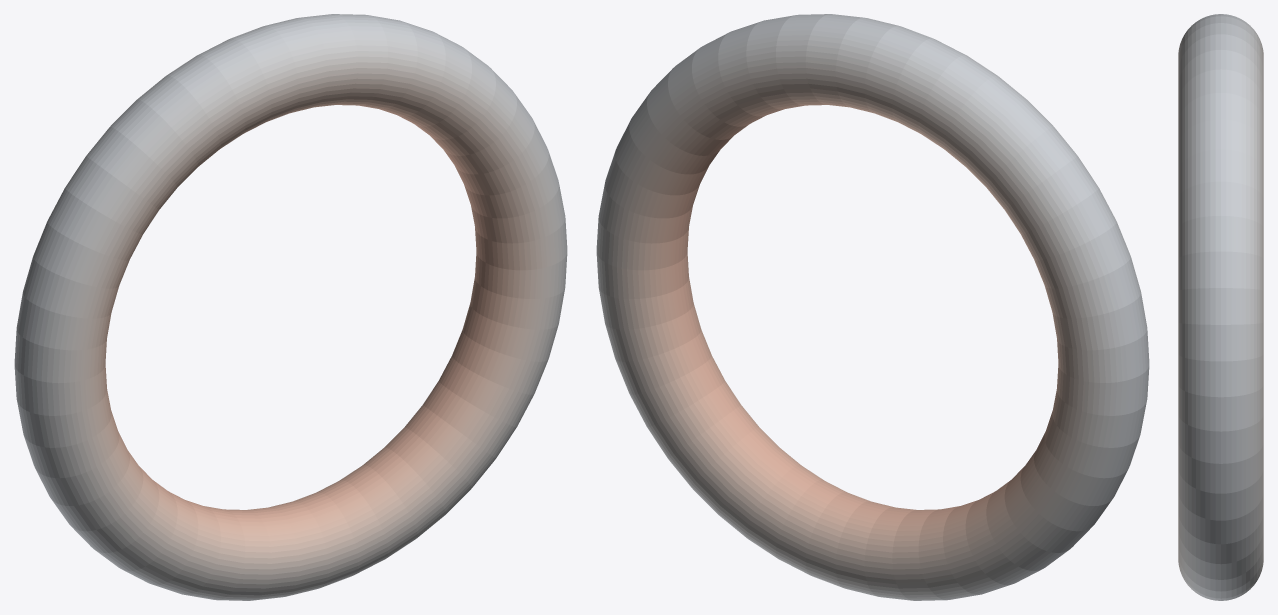
3 views of the same model, side by side, from view 1: azimuth 30°, elevation 25°; view 2: azimuth 150°, elevation 25°; view 3: azimuth 270°, elevation 25° (orthographic). The views are drawn at different scales.
Parts seen in each view (by area): view 1: world; view 2: world; view 3: world.
Part boxes in pixels (x1,y1,x2,y2): world: [14, 14, 567, 600]; world: [596, 14, 1149, 600]; world: [1178, 14, 1263, 600].
Bounding box in the file's own units: 32 × 31.94 × 4.66.
